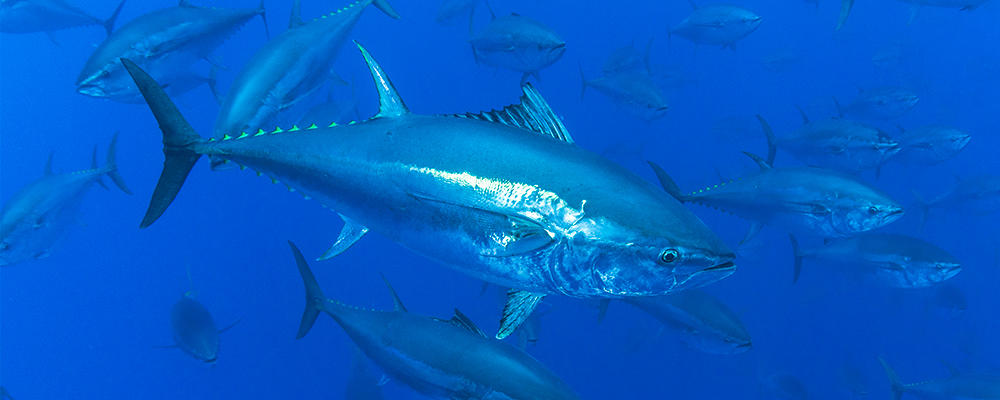Bluefina Tuna: (119, 54, 736, 337), (657, 140, 912, 236), (791, 231, 965, 295), (461, 17, 572, 71), (669, 5, 763, 49)
